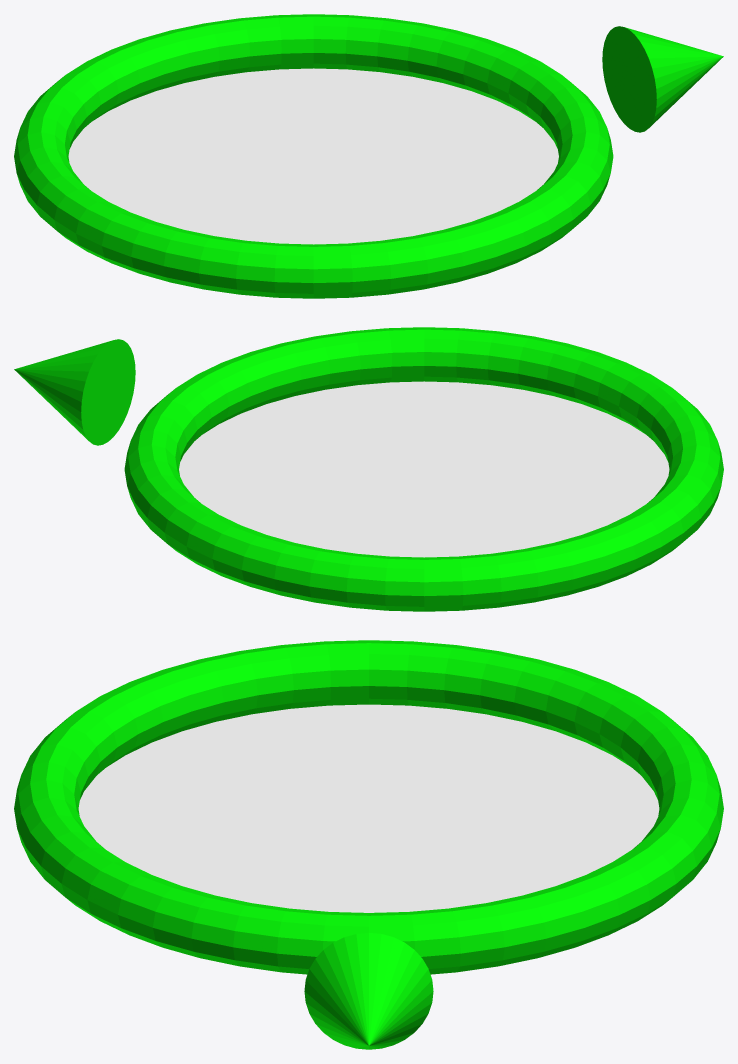
The model's file is RobotMarkerGREEN.fbx.
3 views of the same model, one above another, from view 1: azimuth 30°, elevation 25°; view 2: azimuth 150°, elevation 25°; view 3: azimuth 270°, elevation 25° (orthographic). The views are drawn at different scales.
Visible parts, largest first — view 1: marker.002, arrow.002; view 2: marker.002, arrow.002; view 3: marker.002, arrow.002.
Part boxes in pixels (x1,y1,x2,y2): marker.002: (14,14,613,298); arrow.002: (602,26,723,132); marker.002: (124,327,723,611); arrow.002: (14,339,135,445); marker.002: (14,640,723,974); arrow.002: (304,933,433,1049).
Size of the model in its own units: 18.45 by 2.6 by 14.3.
